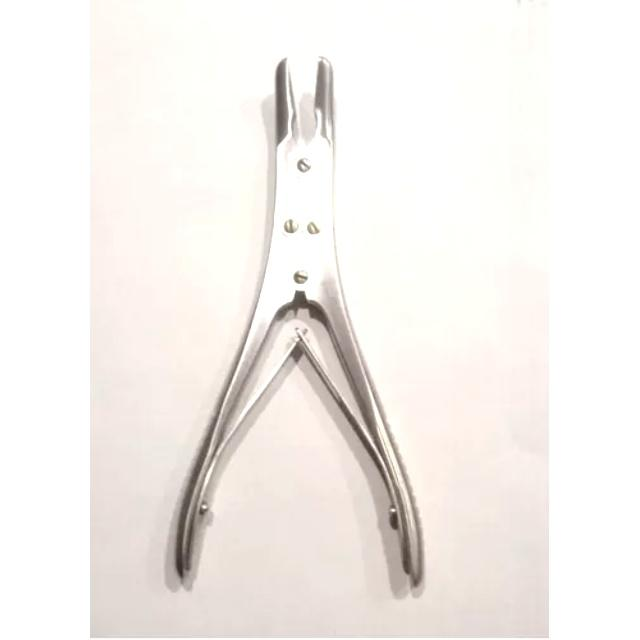gubia: (161, 53, 425, 600)
